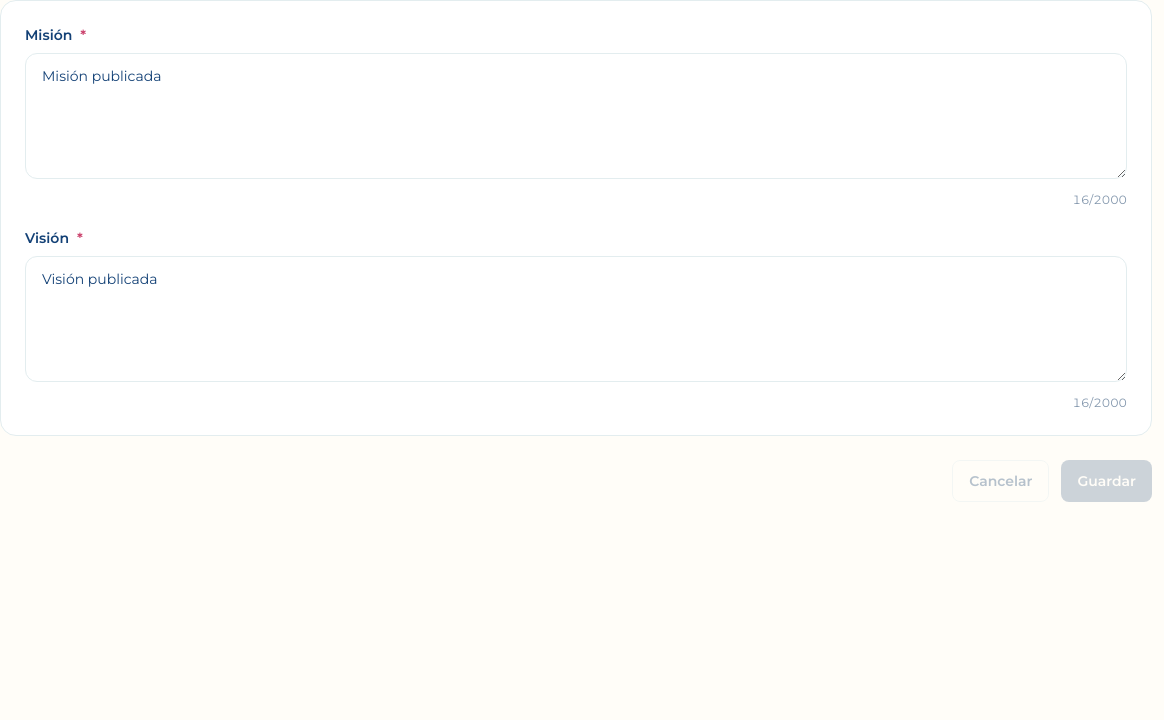
Test case: MissionVisionForm cancel behavior (HU-4.1) › discards unsaved edits and keeps the published values
Expected: the text box labelled "Visión *" holds "Visión publicada", [25, 256, 1127, 382]
Replace the text in the text box labelled "Misión *" with "Cambio sin guardar": (576, 116) [25, 53, 1127, 179]
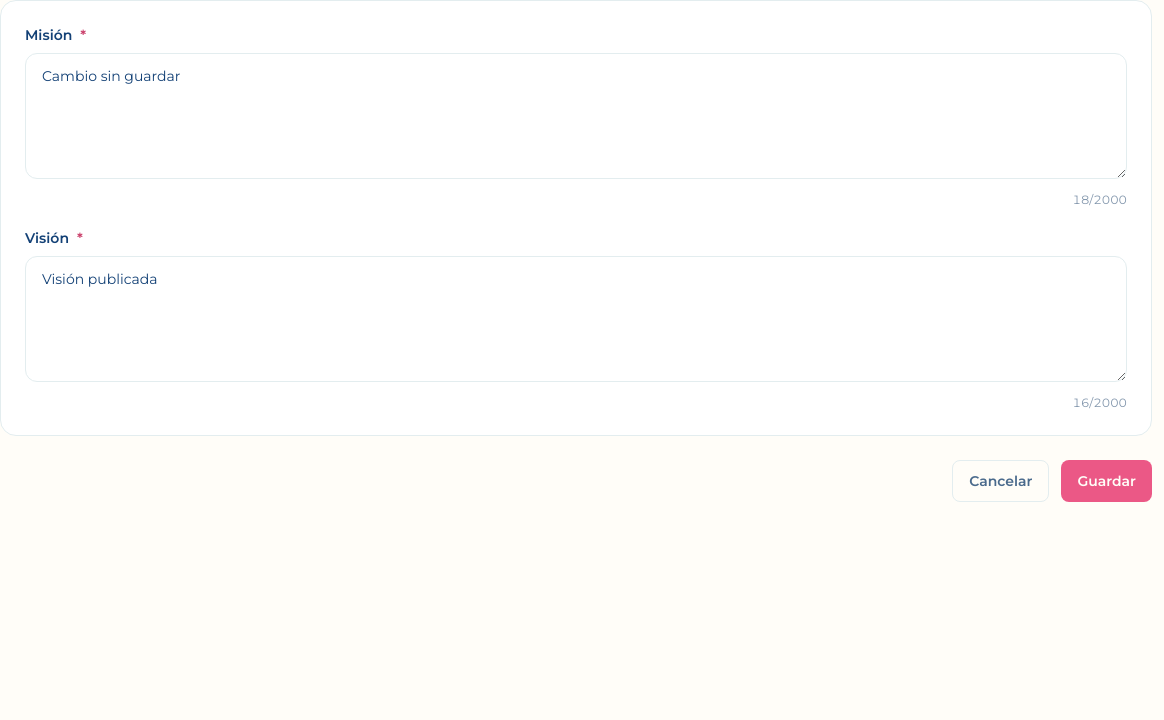
Click the button "Cancelar": click(1001, 481) [952, 460, 1050, 502]
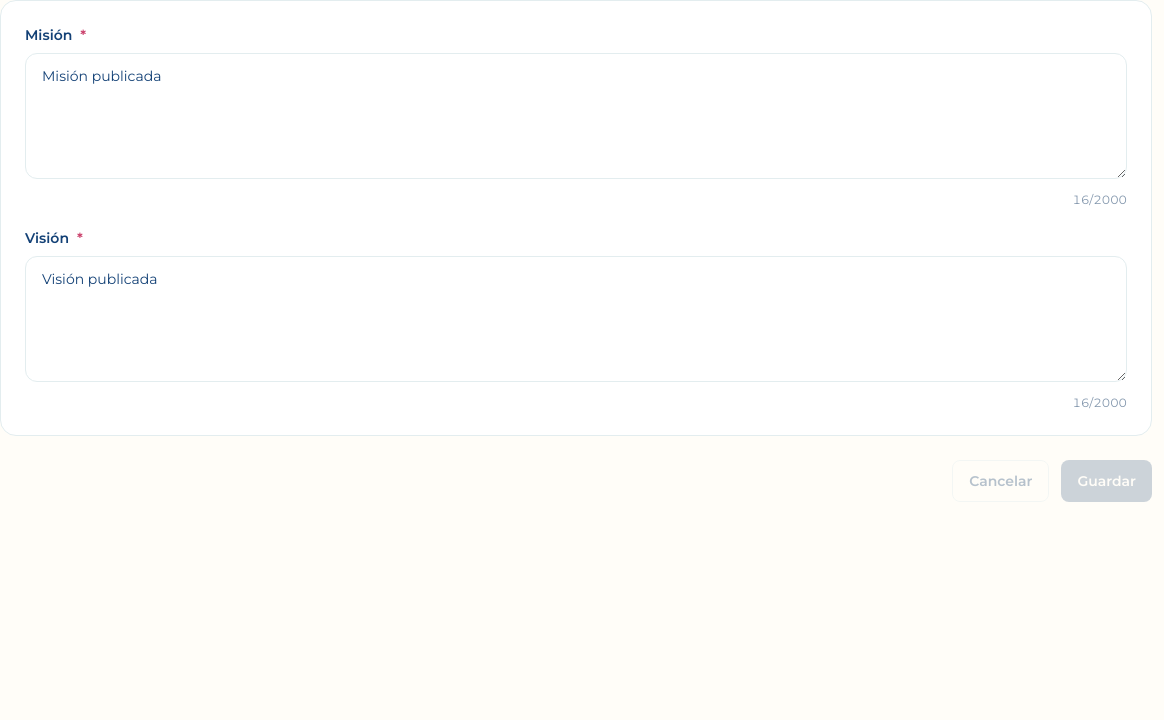
Expected: the text box labelled "Visión *" holds "Visión publicada", [25, 256, 1127, 382]
Result: the text box labelled "Misión *" holds "Misión publicada" at [25, 53, 1127, 179]
